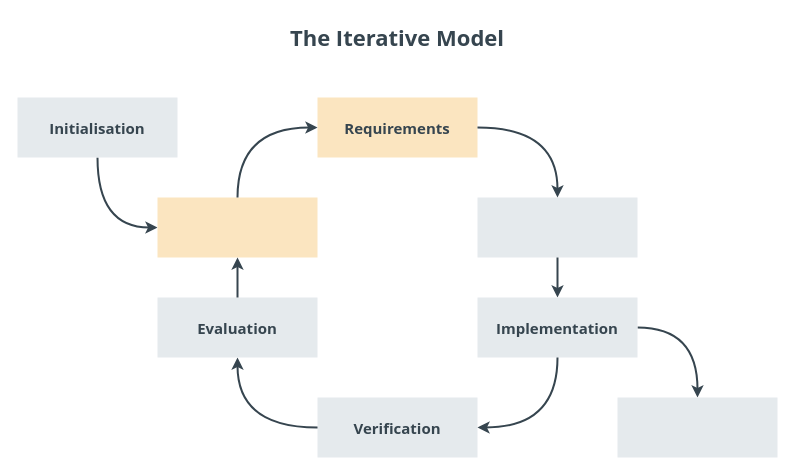
The diagram is 794 pixels wide and 474 high, and some of its shapes have lost their labels. Each missing label, with the box of its shape:
Deployment: (617, 397, 777, 457)
Design: (477, 197, 637, 257)
Planning: (157, 197, 317, 257)
